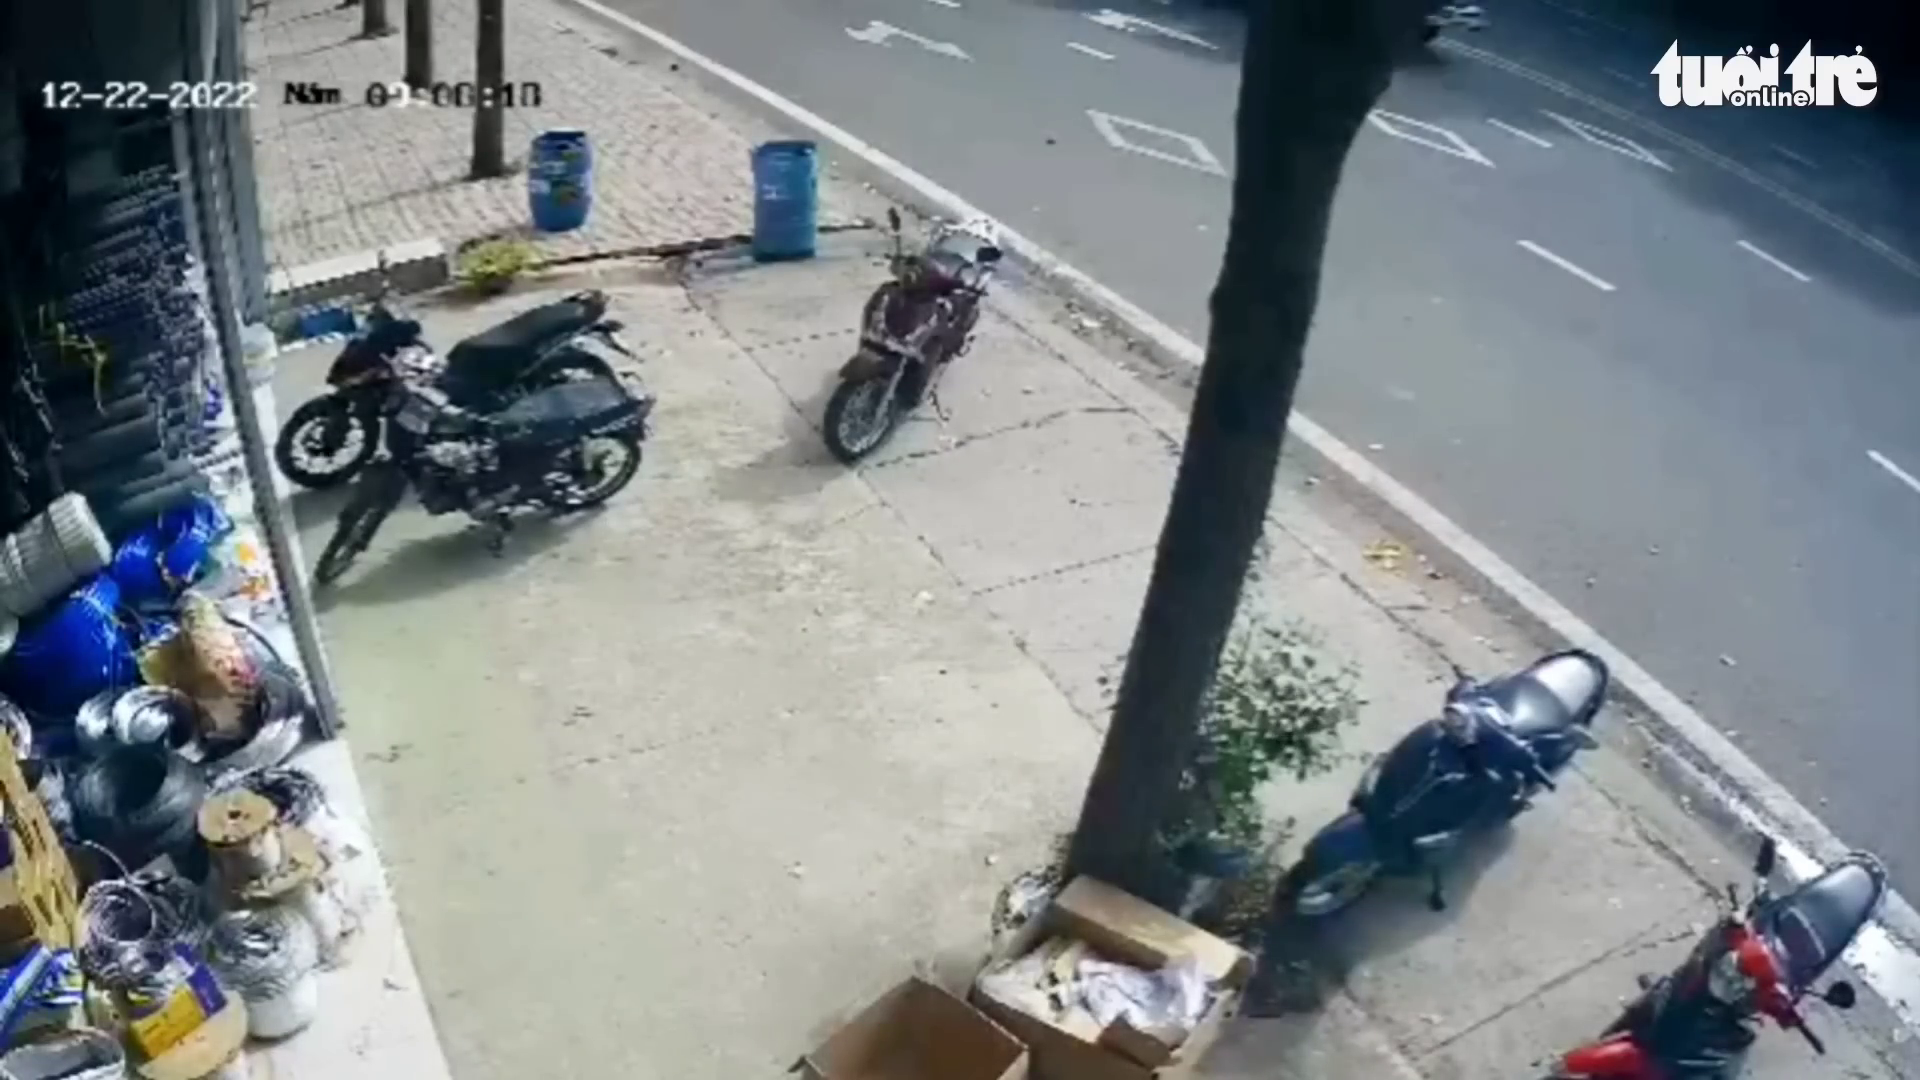Motorcycle: (273, 281, 657, 589), (1288, 646, 1611, 919), (1544, 836, 1888, 1077), (822, 203, 1005, 464)
